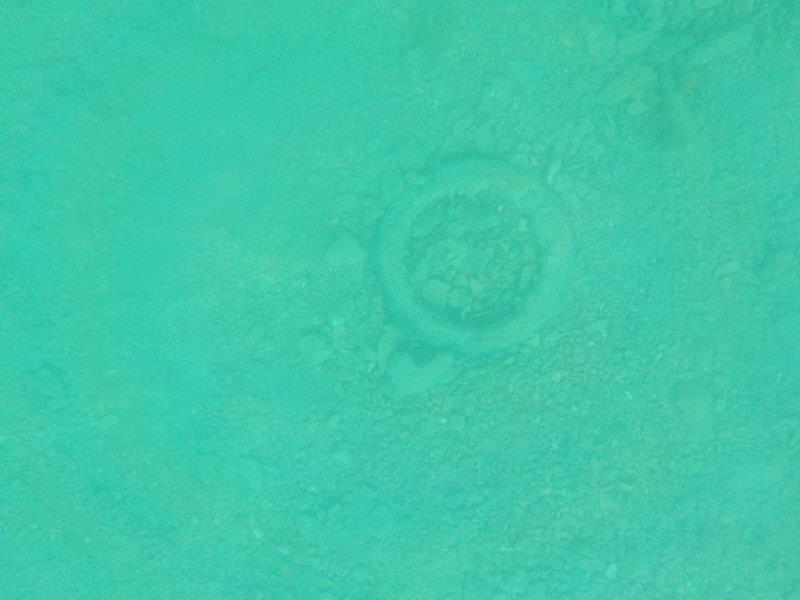tire: (366, 151, 576, 361)
